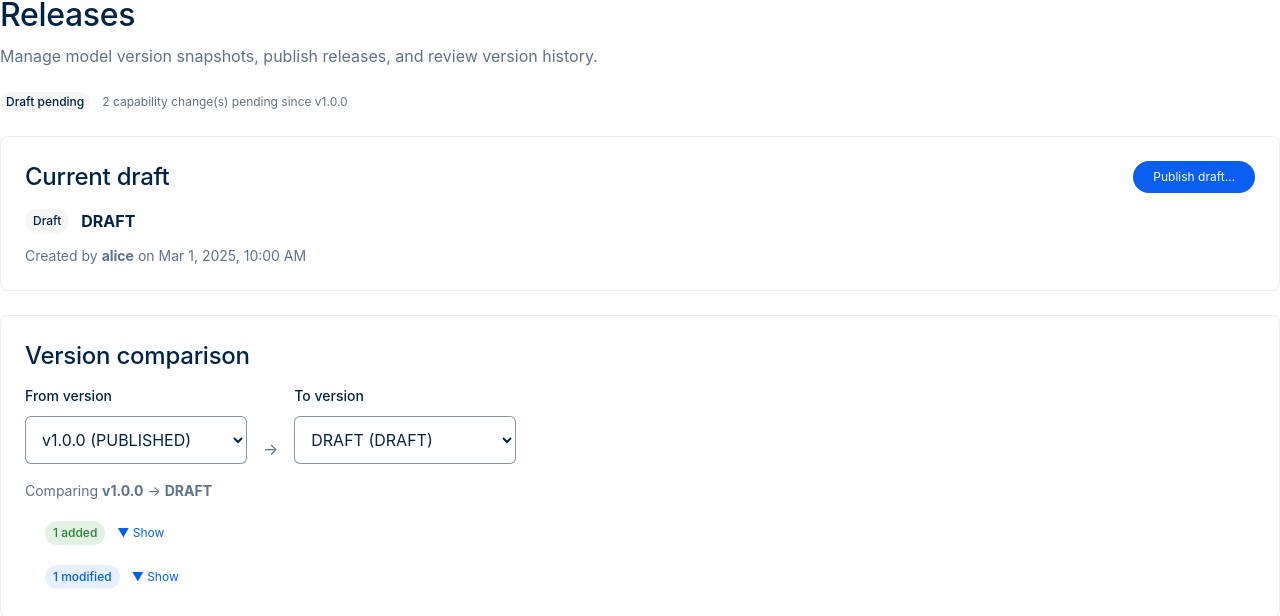
it: ReleaseDashboardPage – publish workflow › shows validation error when form is submitted without a version label
This screenshot has width=1280, height=616.
Click the button "Publish draft…" at (1194,177), box [1133,161,1255,193]
(page scrolled)
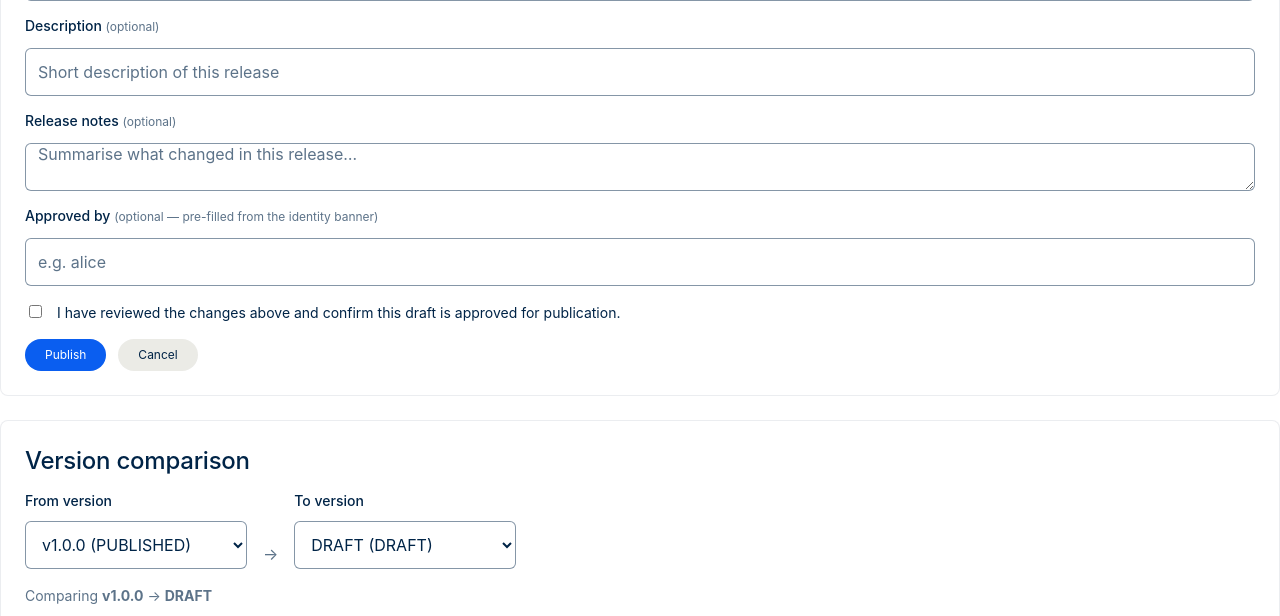
Click the button "Publish" at (66,355), box [25,339,106,371]
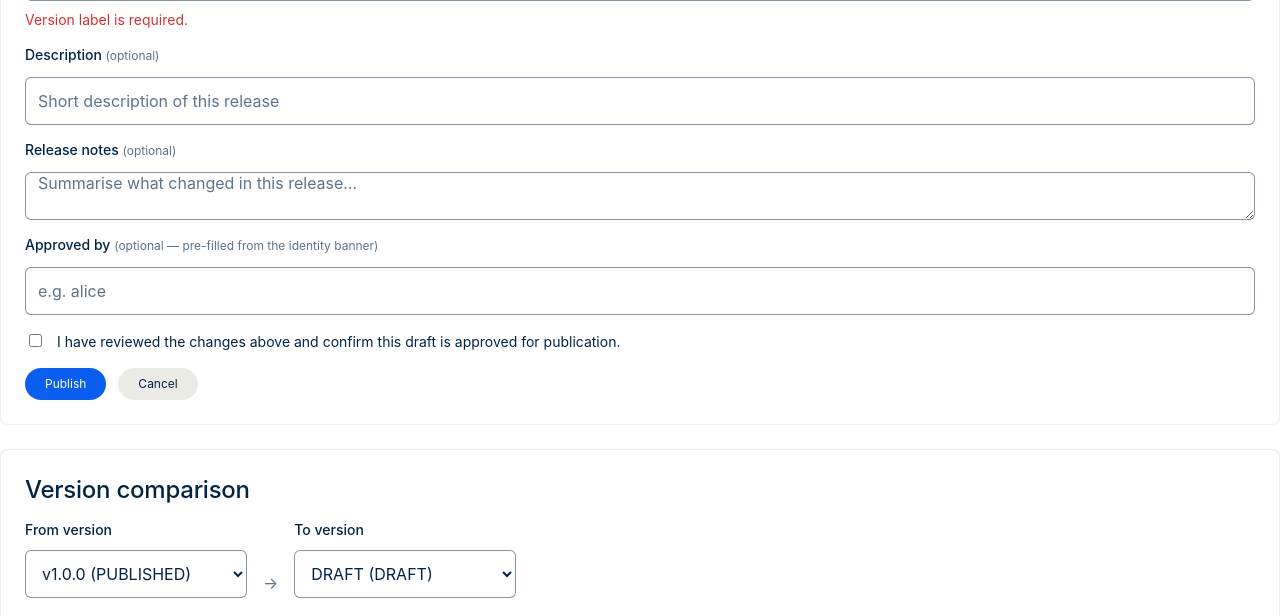
Check: the message shows "Version label is required", box [25,11,188,28]
